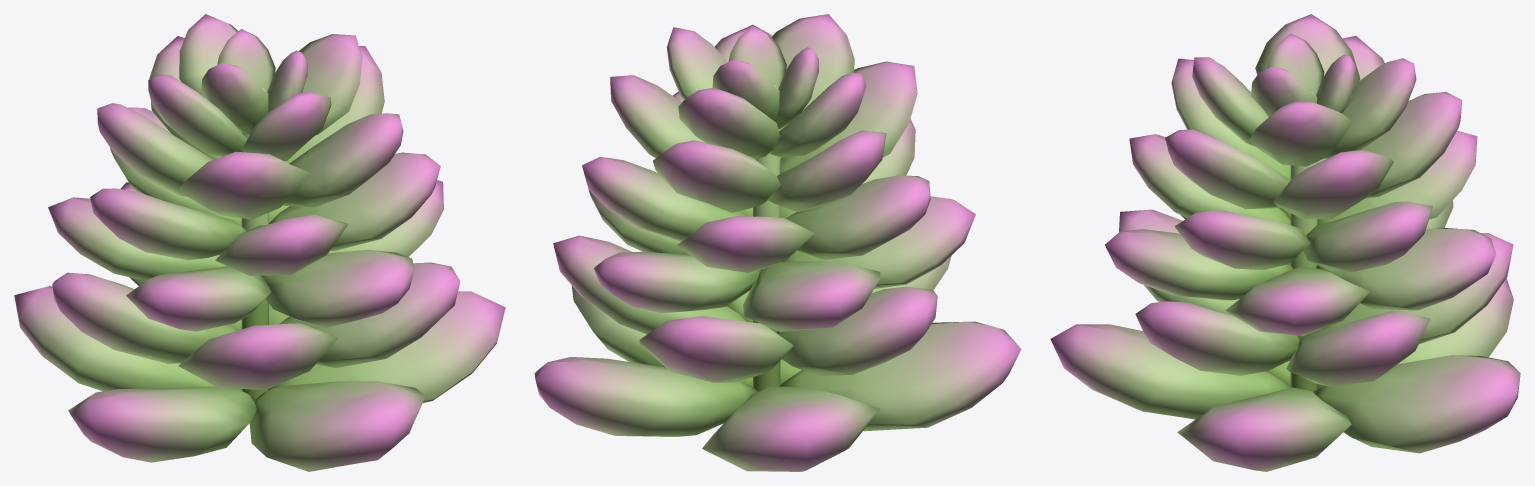
The model's file is Succulents_01_L.fbx.
The picture shows the model from 3 angles, left to right: view 1: azimuth 30°, elevation 25°; view 2: azimuth 150°, elevation 25°; view 3: azimuth 270°, elevation 25°; orthographic projection.
Parts seen in each view (by area): view 1: Cylinder002; view 2: Cylinder002; view 3: Cylinder002.
Part boxes in pixels (x1=…): Cylinder002: x1=14, y1=14, x2=505, y2=471; Cylinder002: x1=534, y1=14, x2=1021, y2=471; Cylinder002: x1=1050, y1=14, x2=1520, y2=471.
Bounding box in the file's own units: 38.35 × 31.84 × 37.33.
